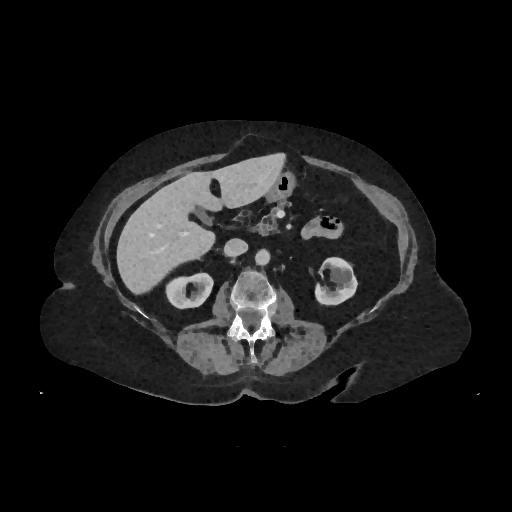Lesion: (324, 259, 357, 289)
